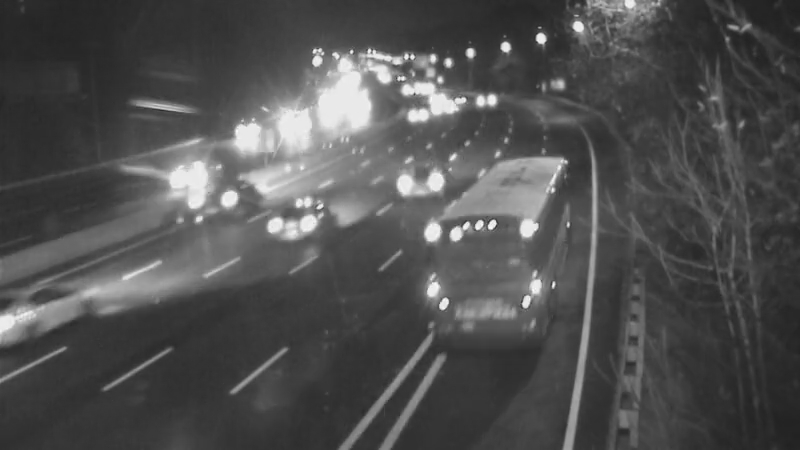vehicle: (1, 260, 86, 370), (373, 134, 453, 214), (182, 163, 262, 243), (252, 182, 332, 262), (431, 235, 511, 315), (140, 141, 220, 221), (456, 69, 506, 119), (417, 80, 467, 130), (393, 86, 443, 136), (219, 109, 269, 159), (262, 98, 312, 148)
